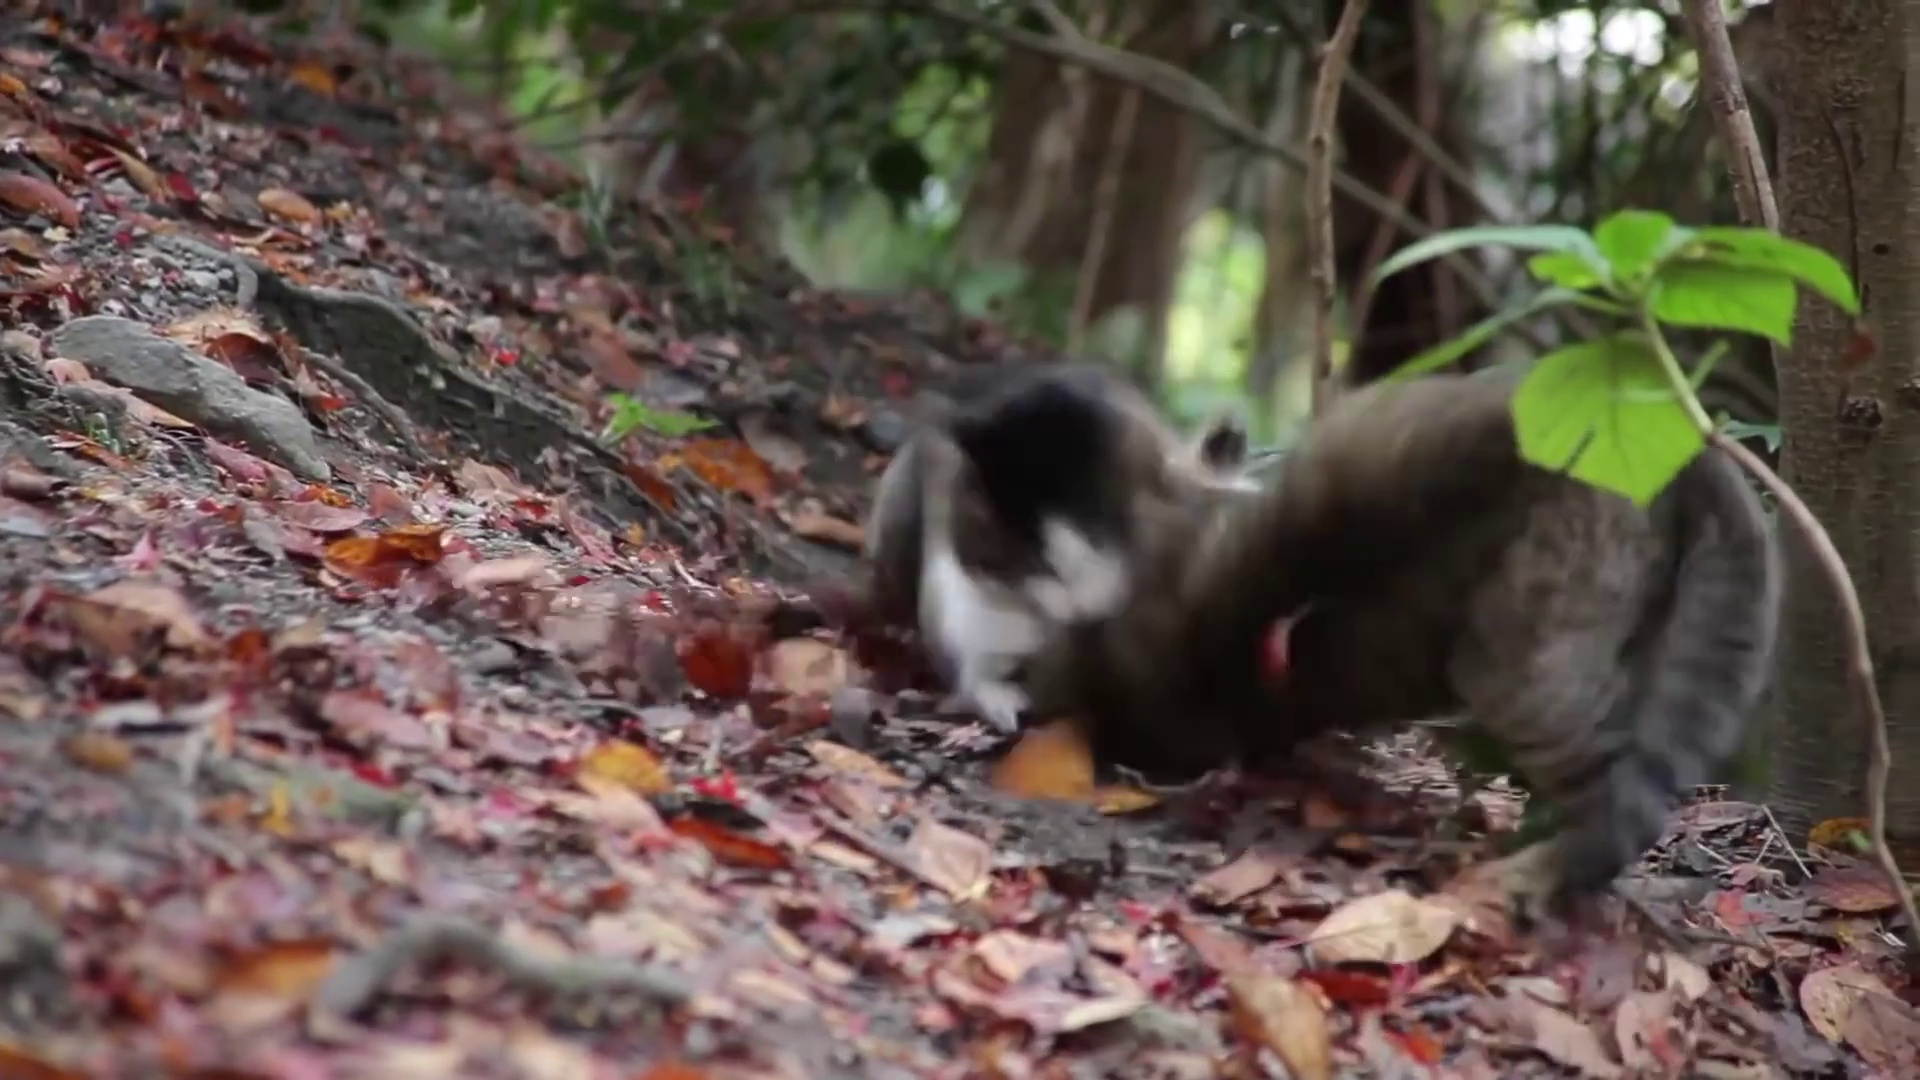black-white: (869, 368, 1236, 732)
pure black: (1072, 369, 1784, 793)
